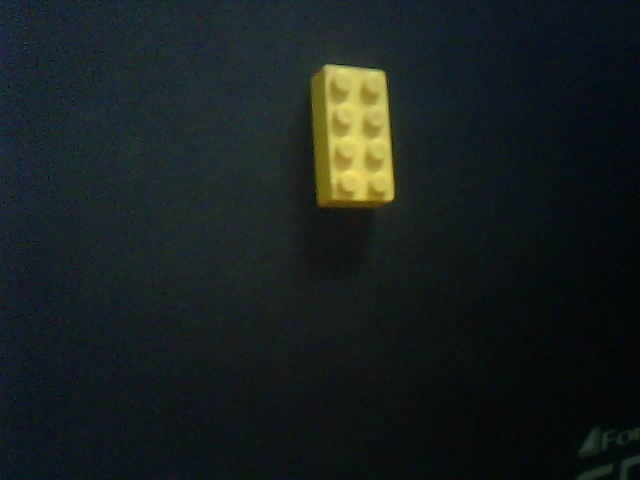lego: (306, 62, 395, 207)
